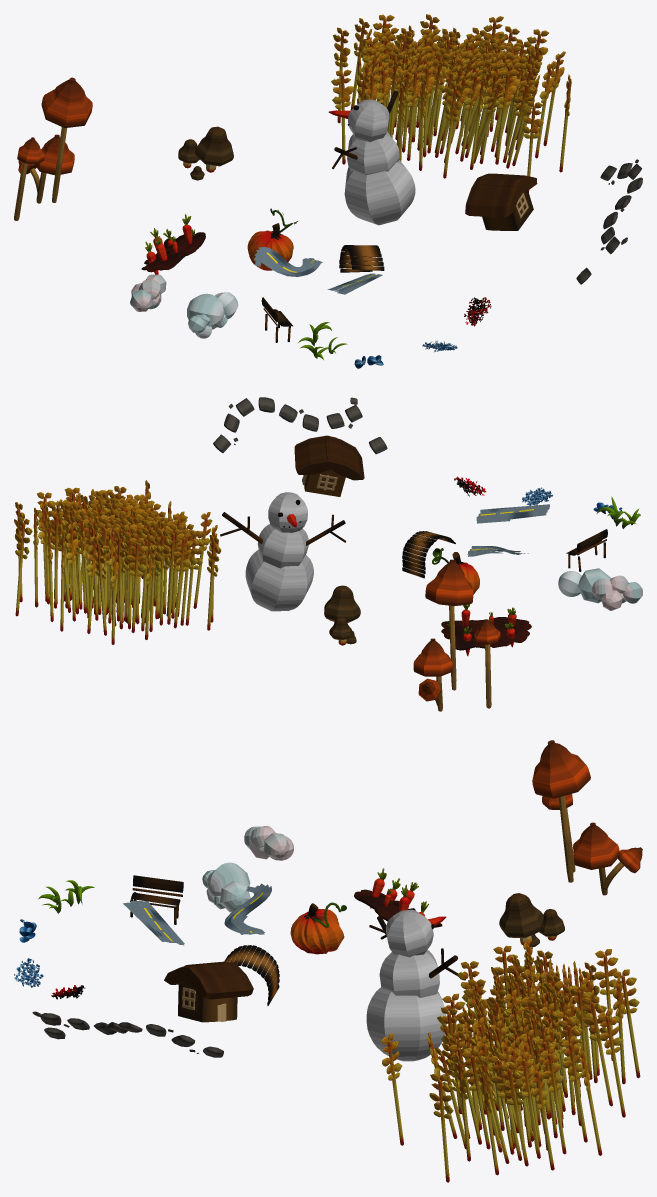
Rendered from Optiuntitled.fbx.
The picture shows the model from 3 angles, top to bottom: view 1: azimuth 30°, elevation 25°; view 2: azimuth 150°, elevation 25°; view 3: azimuth 270°, elevation 25°; orthographic projection. The views are drawn at different scales.
Parts seen in each view (by area): view 1: Ble, Snowman, Shroomlong, Chalet, Carotte, Shroombr, Cloud3, Rock1, Citrouille1, NewLayer1, Roadssss, Cloud (+2 smaller); view 2: Ble, Snowman, Shroomlong, Chalet, Rock1, Carotte, Shroombr, Cloud, NewLayer1, Cloud3, Road, Banc (+1 smaller); view 3: Ble, Snowman, Shroomlong, Chalet, Shroombr, Citrouille1, Cloud3, Rock1, Carotte, NewLayer1, Cloud, Banc (+2 smaller).
Boxes of the visible parts, x1,y1,x2,y2 form: Ble: (331,14,571,192); Snowman: (328,90,415,225); Shroomlong: (14,77,92,220); Chalet: (465,173,537,230); Carotte: (141,214,205,274); Shroombr: (178,126,233,180); Cloud3: (187,292,238,338); Rock1: (579,159,642,284); Citrouille1: (247,208,297,270); NewLayer1: (339,245,384,272); Roadssss: (254,247,322,276); Cloud: (130,274,166,311); Ble: (14,480,221,644); Snowman: (220,492,346,611); Shroomlong: (413,559,500,711); Chalet: (294,435,364,496); Rock1: (213,397,387,453); Carotte: (441,604,531,656); Shroombr: (324,585,360,645); Cloud: (592,575,642,610); NewLayer1: (402,531,455,578); Cloud3: (558,568,610,603); Road: (476,504,549,523); Banc: (566,529,607,571); Ble: (381,938,640,1182); Snowman: (366,908,465,1061); Shroomlong: (532,740,642,895); Chalet: (164,961,253,1022); Shroombr: (499,893,564,947); Citrouille1: (290,902,346,954); Cloud3: (202,862,250,912); Rock1: (32,1011,223,1057); Carotte: (354,868,442,927); NewLayer1: (224,945,279,1005); Cloud: (244,826,293,860); Banc: (130,875,183,924).
Size of the model in its own units: 12.28 by 3.69 by 10.88.
